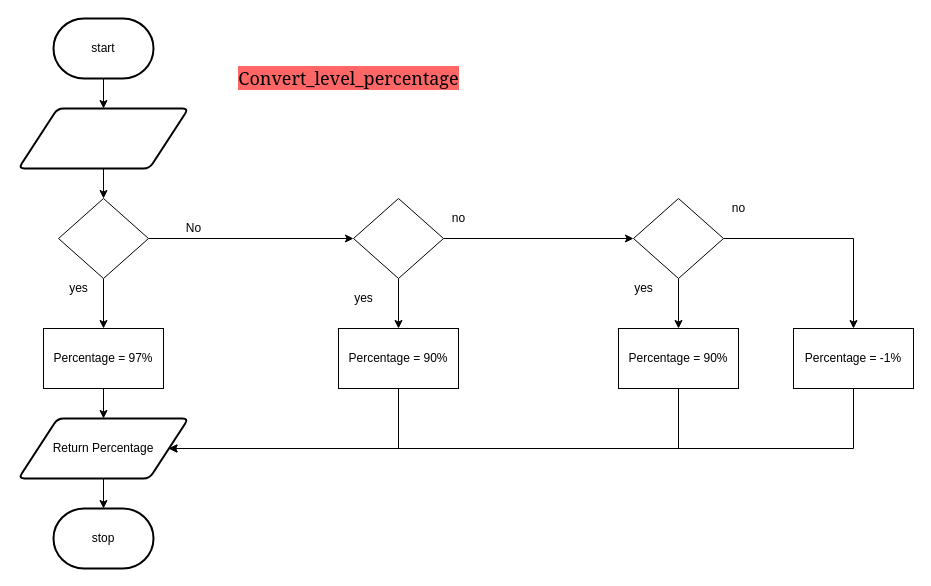
This 931x586 diagram has some shape labels left out. Here are the shapes that lost their labels. From the top down, the box of each, then its label:
(17, 107, 189, 169): get mark
(58, 198, 148, 278): if mark == 4+
(352, 198, 444, 278): else if mark ==4
(632, 198, 724, 278): else if mark == NE
